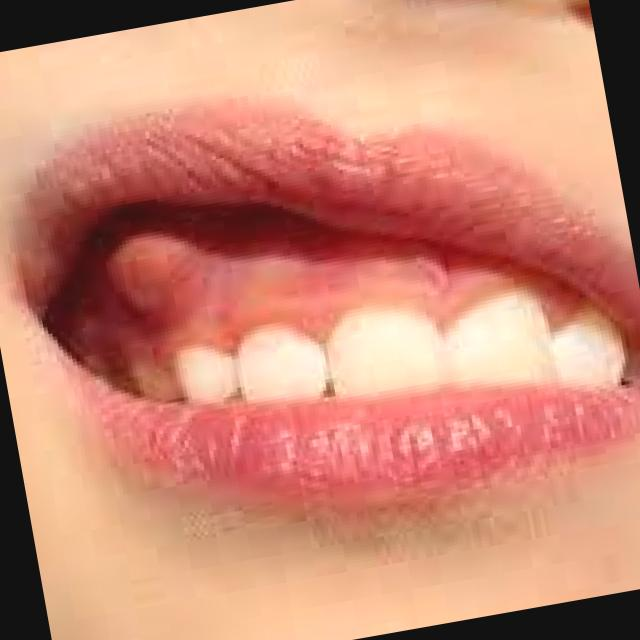abscess: (68, 195, 258, 328)
